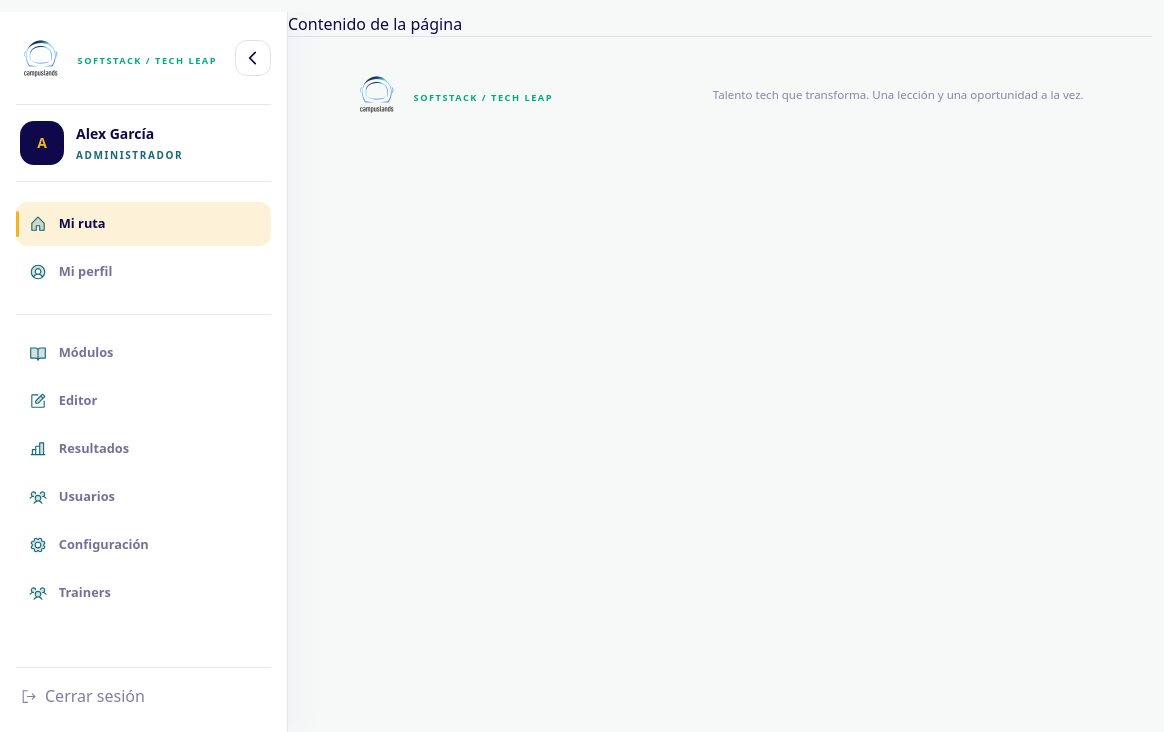
Test: DashboardShell › renders navigation, content and footer spaces together
The image size is (1164, 732).
expect the element named "Navegación de la aplicación" is shown: met, box [0,12,288,731]
Click the button named "Encoger menú". click: {"x": 253, "y": 58}
box: [235,40,271,76]
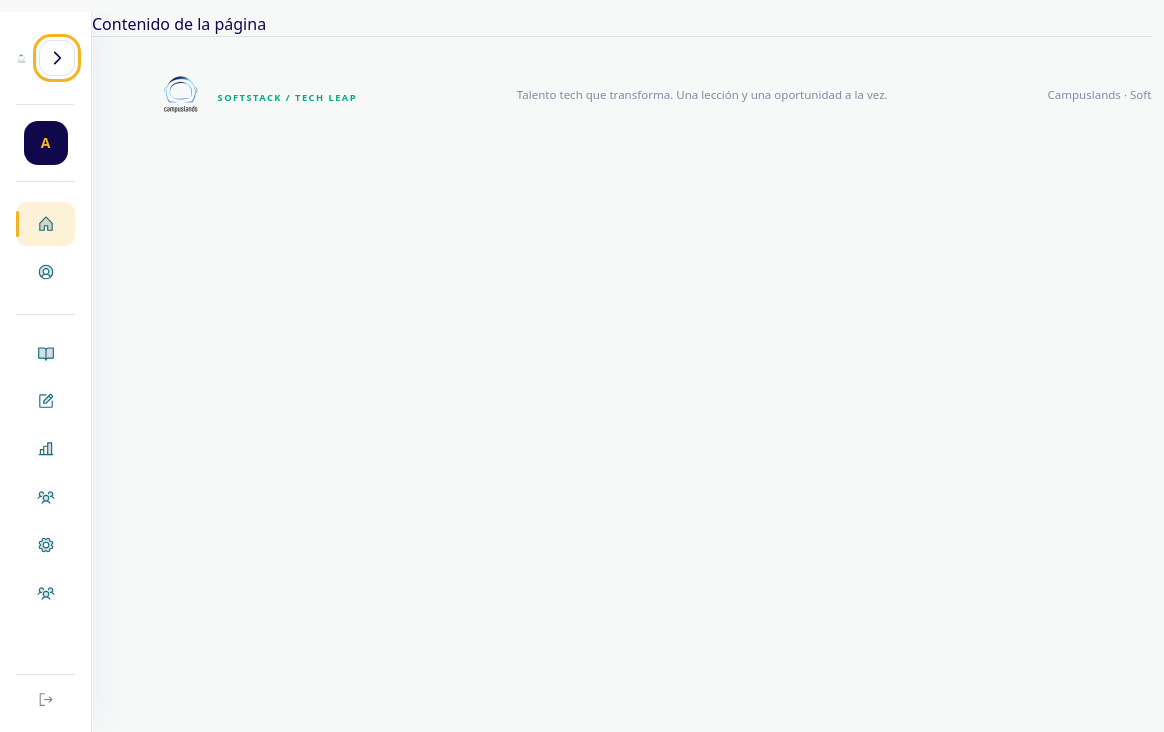
expect the button named "Expandir menú" is shown: met, box [39,40,75,76]
